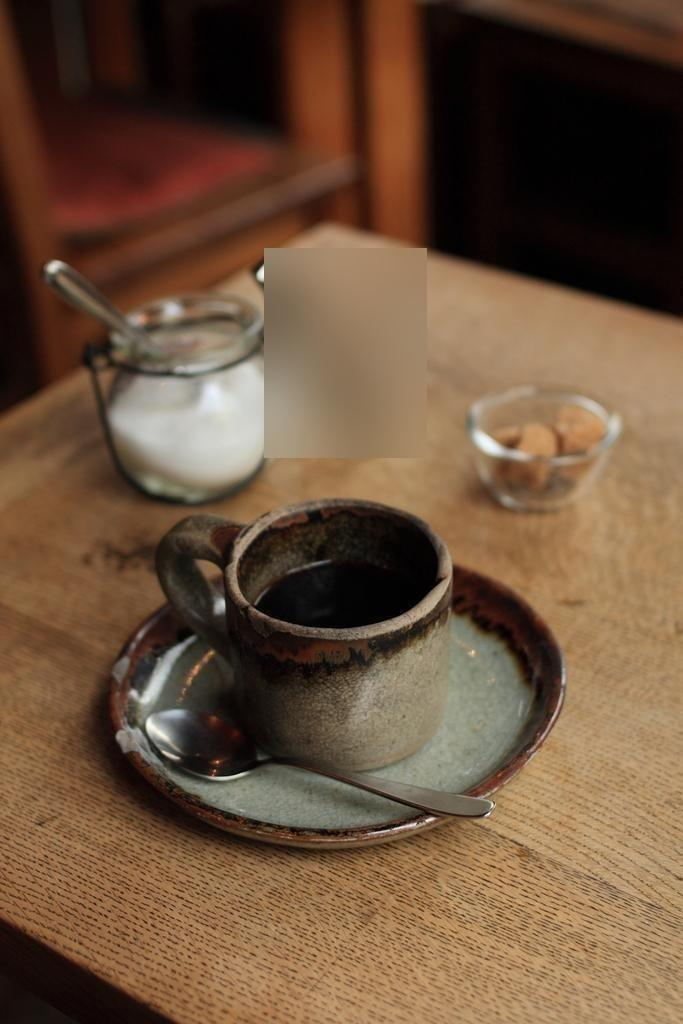cup-handle: (154, 495, 455, 776)
